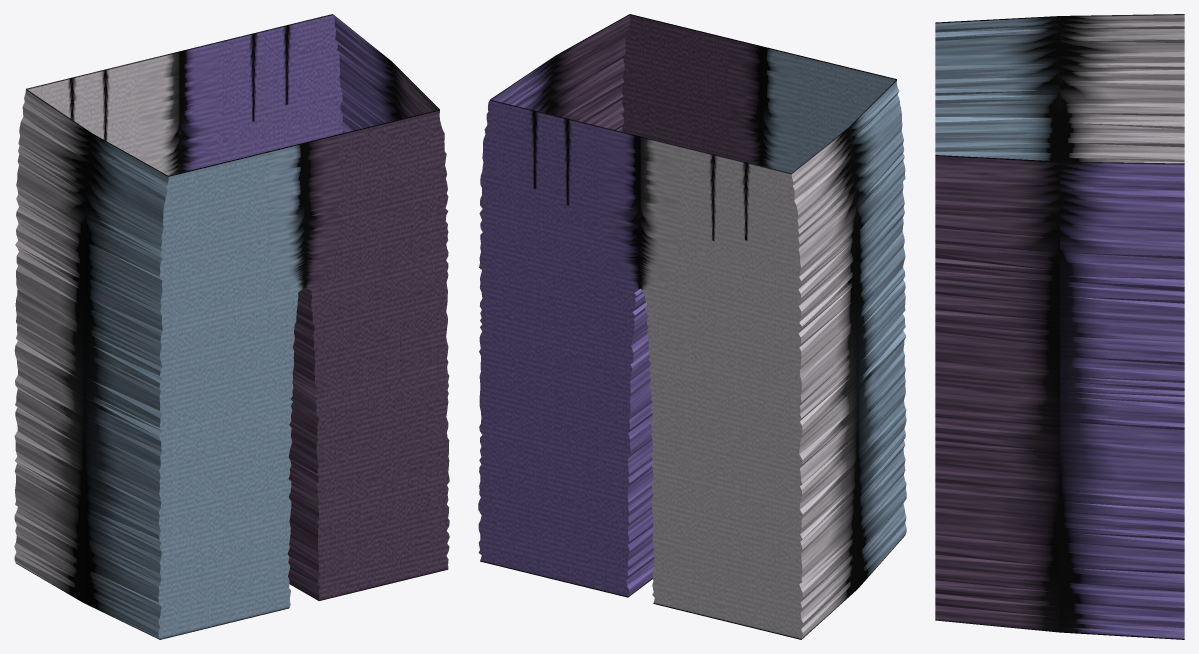
File: valid_garment_lower_boxmesh.obj
The picture shows the model from 3 angles, left to right: view 1: azimuth 30°, elevation 25°; view 2: azimuth 150°, elevation 25°; view 3: azimuth 270°, elevation 25°; orthographic projection.
Size of the model in its own units: 68.8 by 93.91 by 45.
Materials: 1 (1 with a texture image).
